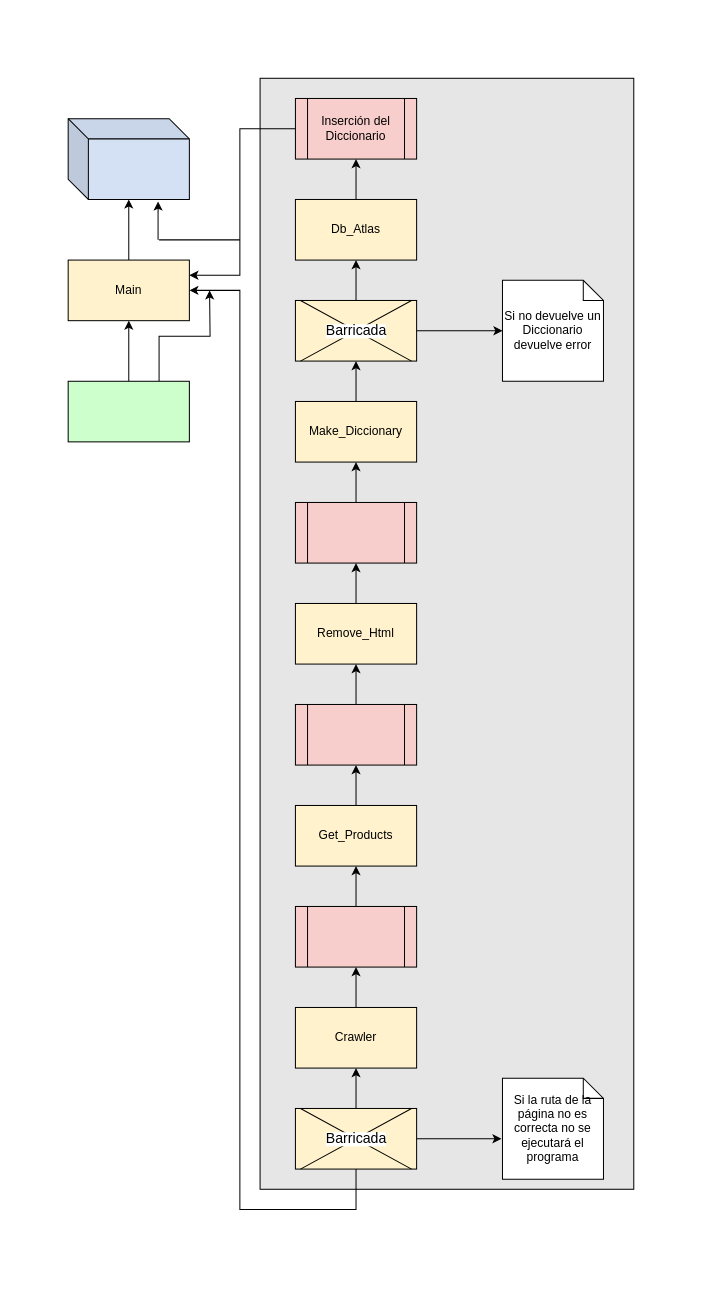
Some shapes in this 722 by 1298 pixel diagram are drawn without their labels. Here are the shapes that lost their labels. From the top down, the box of each, then its label:
(67, 118, 189, 199): Cluster/Mongo
(67, 380, 189, 442): Httml
(294, 501, 417, 563): Lista Productos sin Html
(294, 703, 417, 765): Lista Productos con Html
(294, 905, 417, 967): Diccionario con Keys, Links
